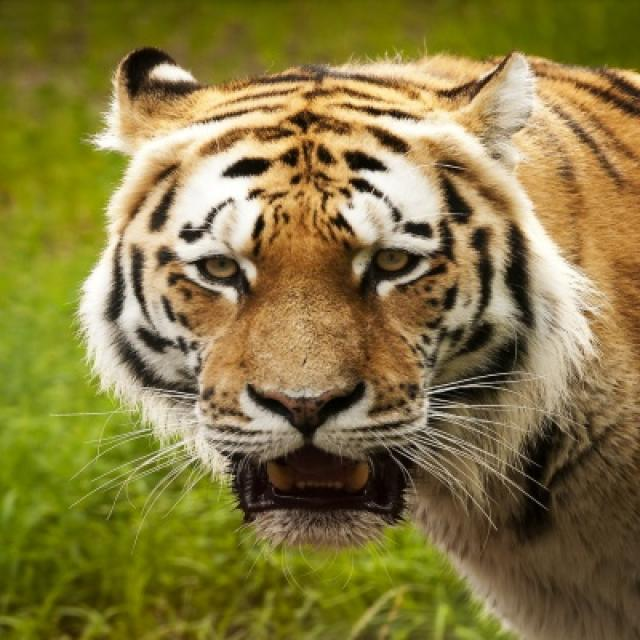Tiger: (80, 48, 638, 638)
